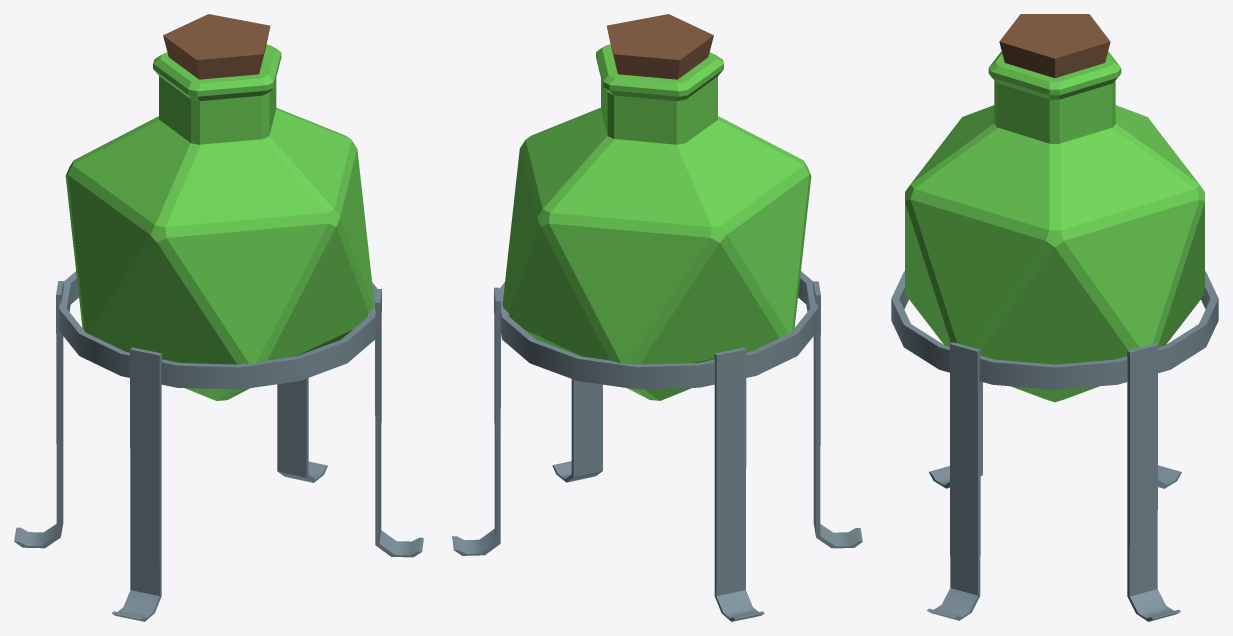
Rendered from Potion_06_Green.fbx.
3 views of the same model, side by side, from view 1: azimuth 30°, elevation 25°; view 2: azimuth 150°, elevation 25°; view 3: azimuth 270°, elevation 25° (orthographic).
Visible parts, largest first — view 1: Icosphere.007, Cube.037, Cylinder.046, Cylinder.045, Cylinder.047, Cube.038, Cube.039, Cube.036; view 2: Icosphere.007, Cube.039, Cylinder.046, Cylinder.045, Cylinder.047, Cube.036, Cube.037, Cube.038; view 3: Icosphere.007, Cube.038, Cube.036, Cylinder.046, Cylinder.045, Cylinder.047, Cube.037.
Part boxes in pixels (left/top/right/bottom): Icosphere.007: left=65, top=108, right=374, bottom=400; Cube.037: left=111, top=347, right=161, bottom=621; Cylinder.046: left=153, top=44, right=281, bottom=144; Cylinder.045: left=59, top=271, right=377, bottom=389; Cylinder.047: left=163, top=14, right=270, bottom=79; Cube.038: left=277, top=378, right=327, bottom=482; Cube.039: left=14, top=281, right=63, bottom=548; Cube.036: left=375, top=289, right=423, bottom=557; Icosphere.007: left=502, top=107, right=811, bottom=400; Cube.039: left=714, top=347, right=764, bottom=621; Cylinder.046: left=596, top=44, right=723, bottom=144; Cylinder.045: left=499, top=271, right=817, bottom=389; Cylinder.047: left=606, top=14, right=713, bottom=79; Cube.036: left=552, top=379, right=602, bottom=482; Cube.037: left=813, top=281, right=862, bottom=548; Cube.038: left=452, top=287, right=500, bottom=555; Icosphere.007: left=905, top=105, right=1204, bottom=402; Cube.038: left=1127, top=343, right=1180, bottom=621; Cube.036: left=927, top=342, right=980, bottom=620; Cylinder.046: left=988, top=51, right=1121, bottom=143; Cylinder.045: left=891, top=271, right=1218, bottom=389; Cylinder.047: left=999, top=14, right=1110, bottom=78; Cube.037: left=929, top=381, right=982, bottom=488.
Size of the model in its own units: 25.27 by 39.03 by 22.52.
